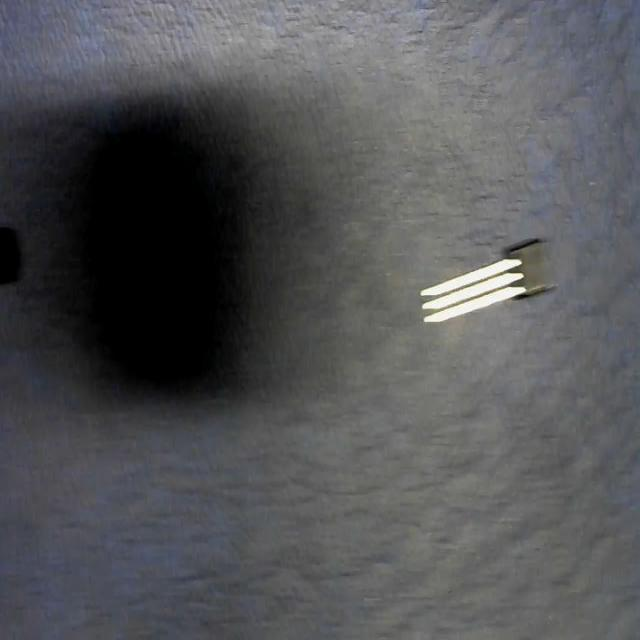BJT: (428, 238, 549, 327)
